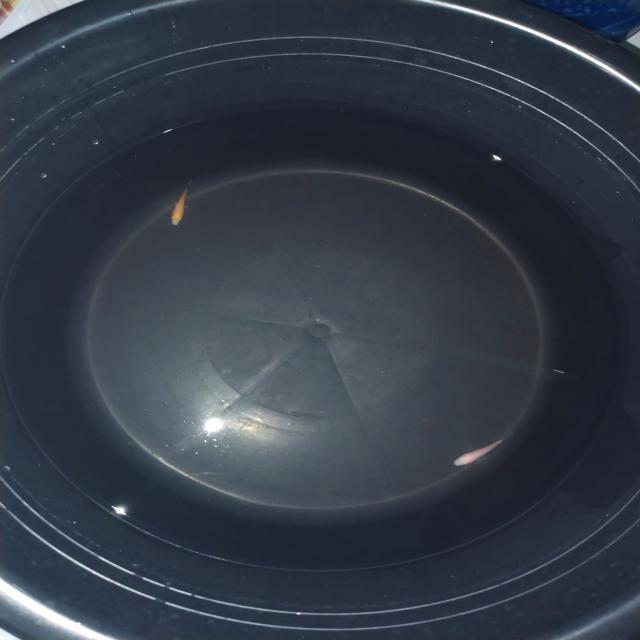nila: (450, 430, 510, 471), (168, 178, 196, 227)
